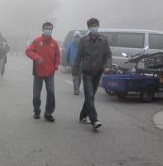person: (72, 16, 113, 131), (24, 21, 65, 125), (66, 30, 86, 95)
